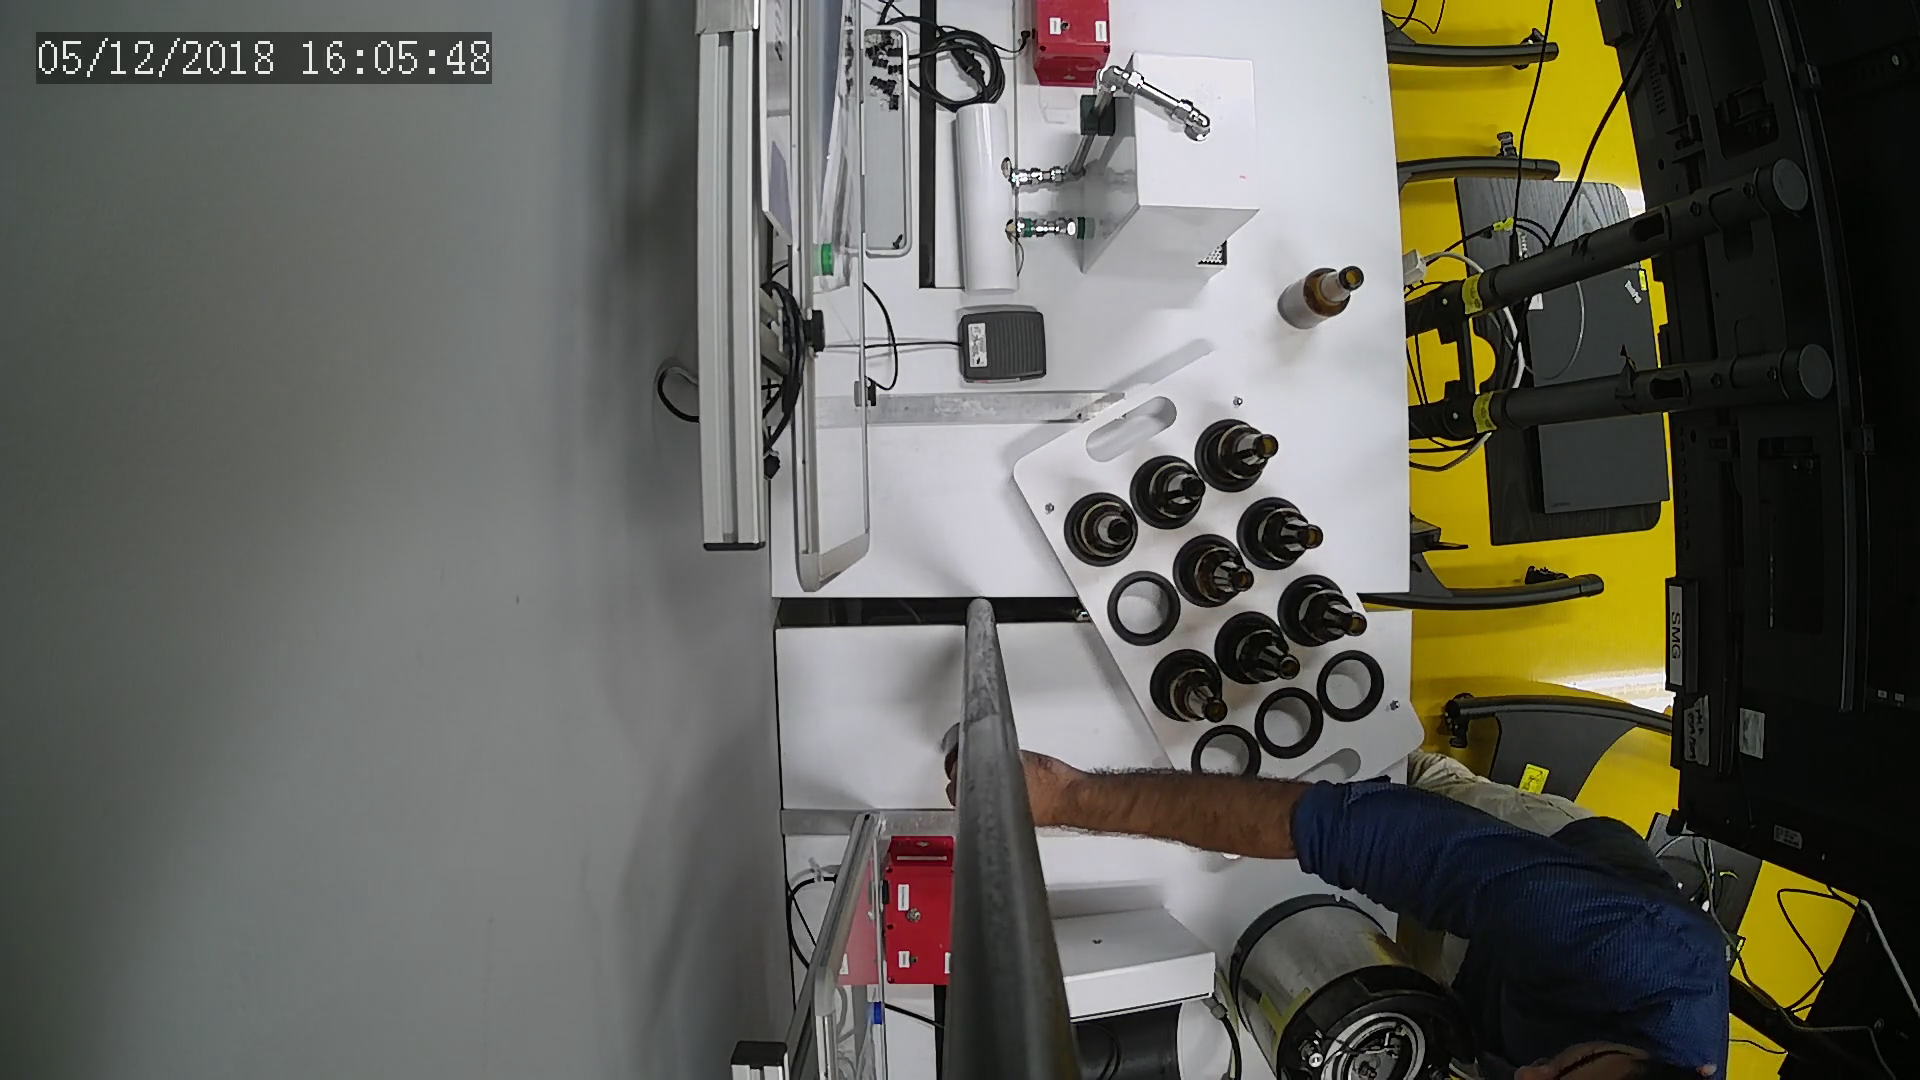filled_bottle: (1280, 572, 1374, 651), (1245, 498, 1329, 576), (1153, 653, 1237, 731), (1199, 415, 1284, 491), (1178, 534, 1261, 611), (1222, 613, 1305, 690), (1131, 458, 1212, 530), (1065, 493, 1141, 568)
trolley: (1011, 351, 1429, 865)
unfilled_bottle: (1276, 262, 1367, 330)
